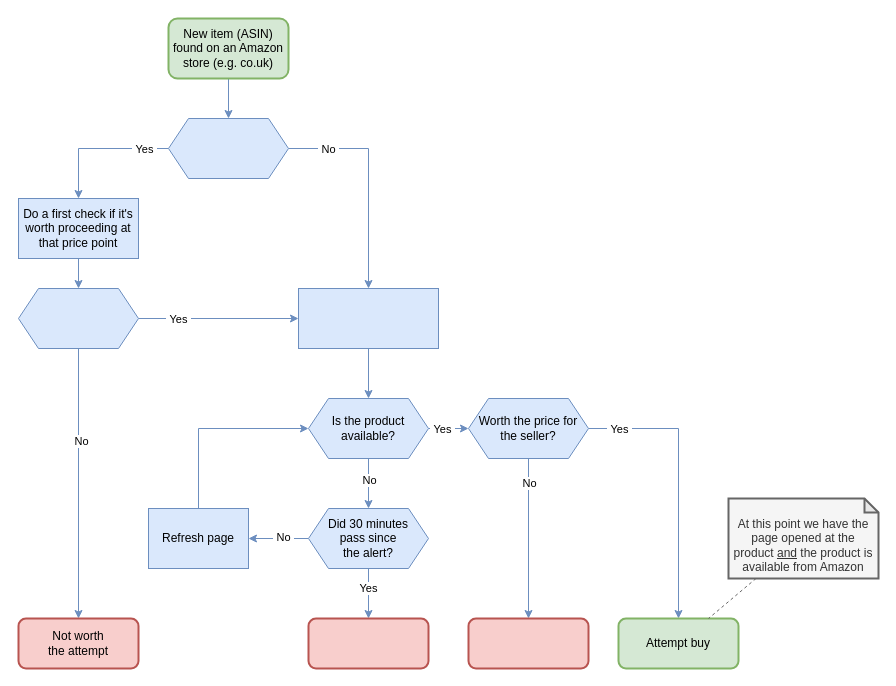
Some shapes in this 896 by 686 pixel diagram are drawn without their labels. The shapes that lost their labels are listed below. From the top down, each one's centre as x and y in pixels, then its label:
At (x=228, y=148): "Is there any metadata? (e.g. price, title)".
At (x=78, y=318): "Worth the price?".
At (x=368, y=318): "Open the Amazon page in a new tab".
At (x=368, y=643): "Too many refreshes, giving up".
At (x=528, y=643): "Too expensive".
